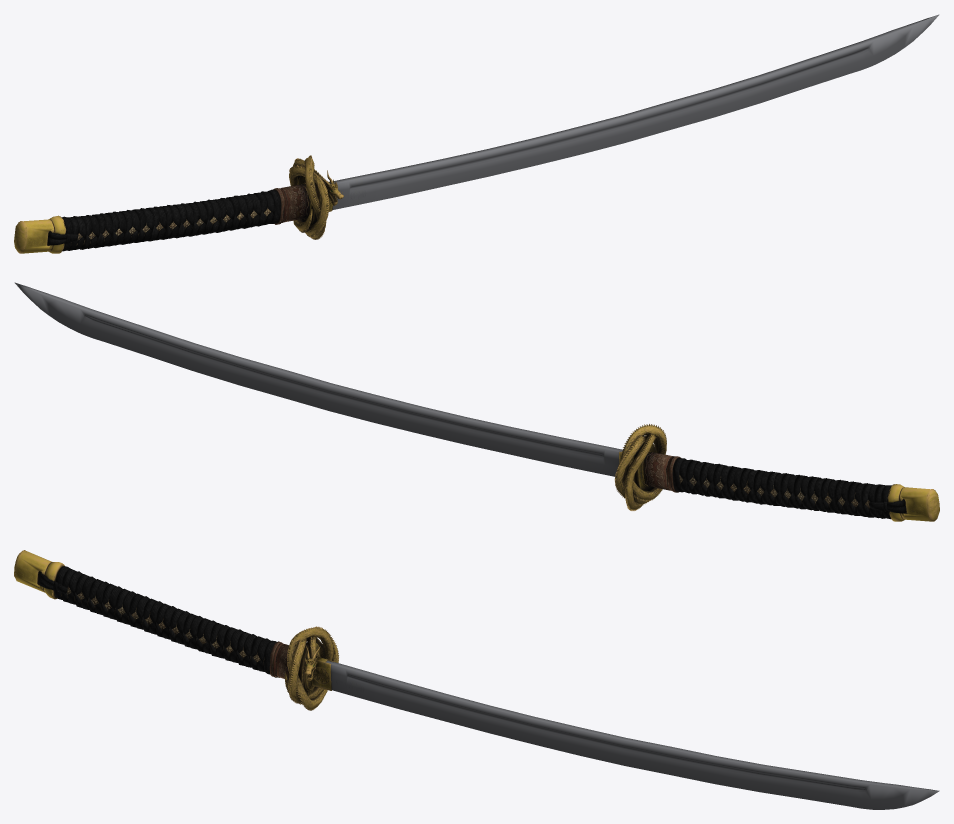
The model's file is Katana.glb.
3 views of the same model, one above another, from view 1: azimuth 30°, elevation 25°; view 2: azimuth 150°, elevation 25°; view 3: azimuth 330°, elevation 25° (orthographic).
Parts seen in each view (by area): view 1: Katana; view 2: Katana; view 3: Katana.
Boxes of the visible parts, box(x1,y1,x2,y2) form: Katana: box(14, 14, 939, 253); Katana: box(14, 282, 939, 521); Katana: box(14, 550, 939, 809).
Bounding box in the file's own units: 1.9 × 0.1756 × 0.1417.
1 material, 1 textured.
